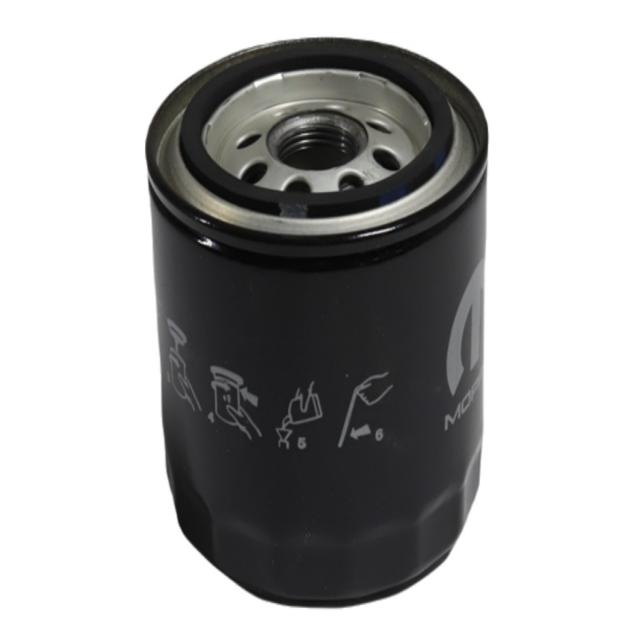oil_filter: (145, 28, 485, 614)
